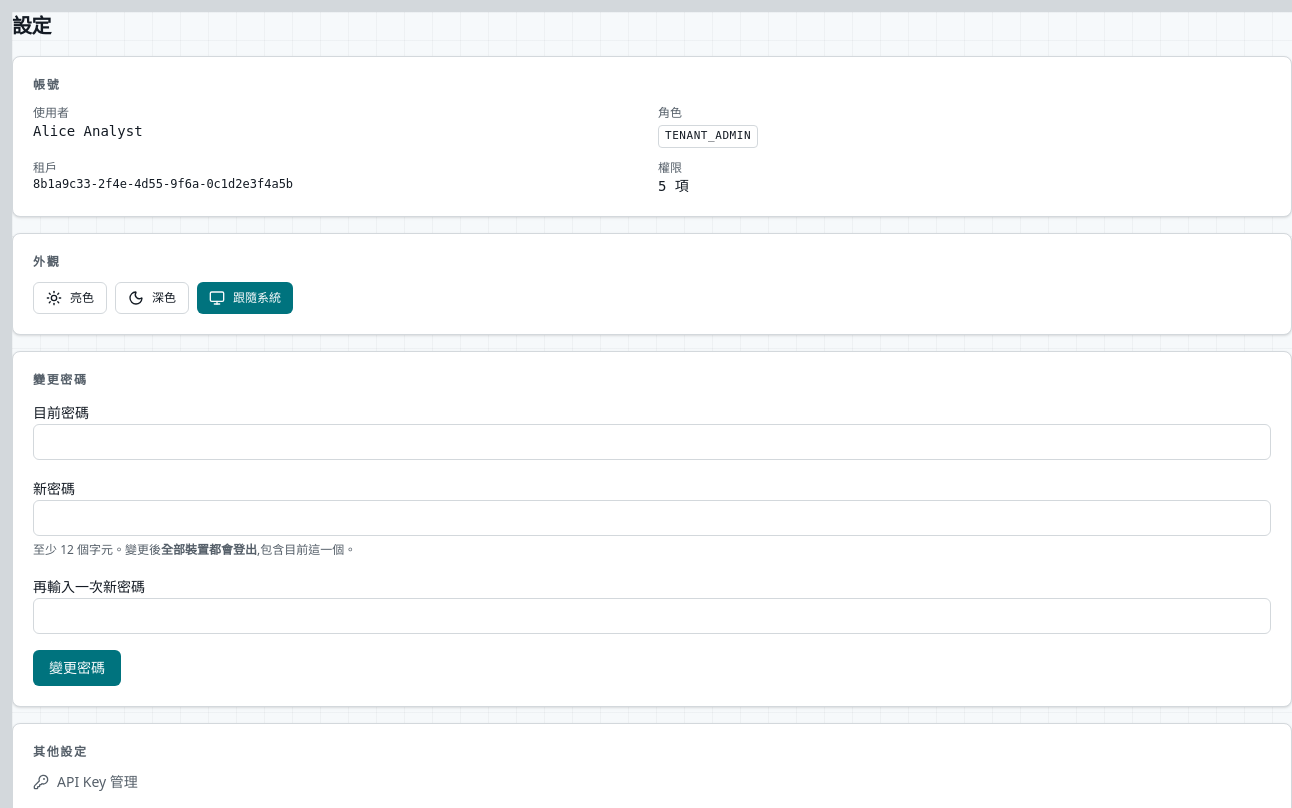
it: SettingsPage › 目前密碼錯誤時顯示錯誤且不動 session
The width and height of the screenshot is (1292, 808).
Type "wrong-password" into the password field labelled "目前密碼" at coordinates (652, 442), box [33,424,1271,460]
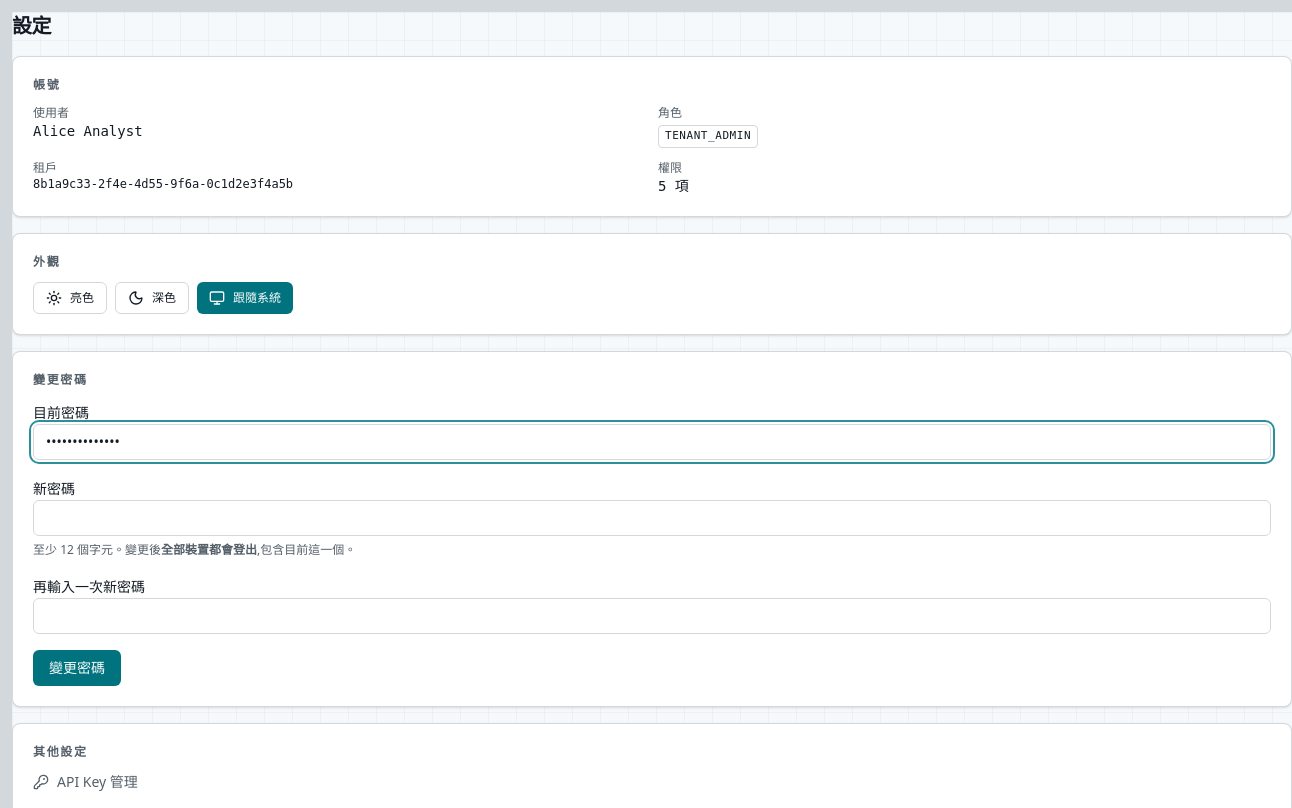
Type "brand-new-password-1234" into the password field labelled "新密碼" at coordinates (652, 518), box [33,500,1271,536]
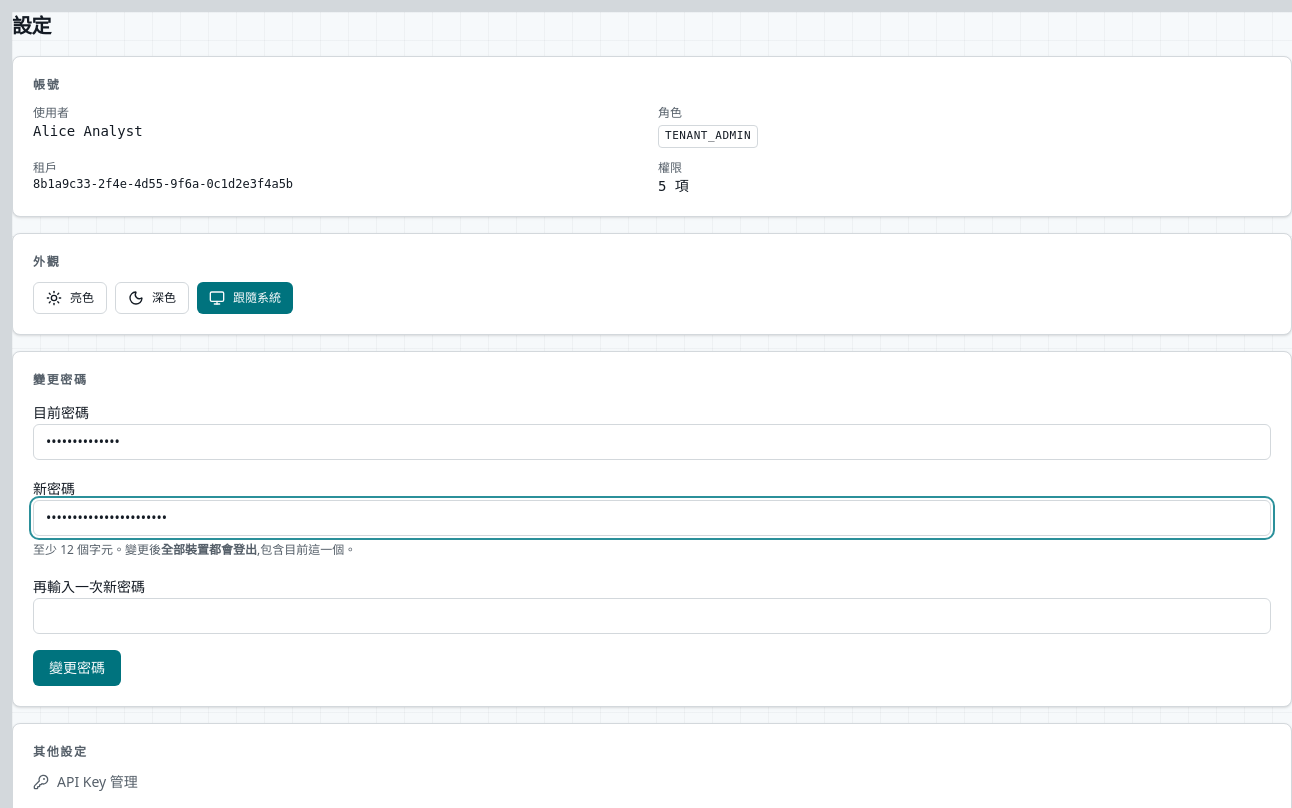
Type "brand-new-password-1234" into the password field labelled "再輸入一次新密碼" at coordinates (652, 616), box [33,598,1271,634]
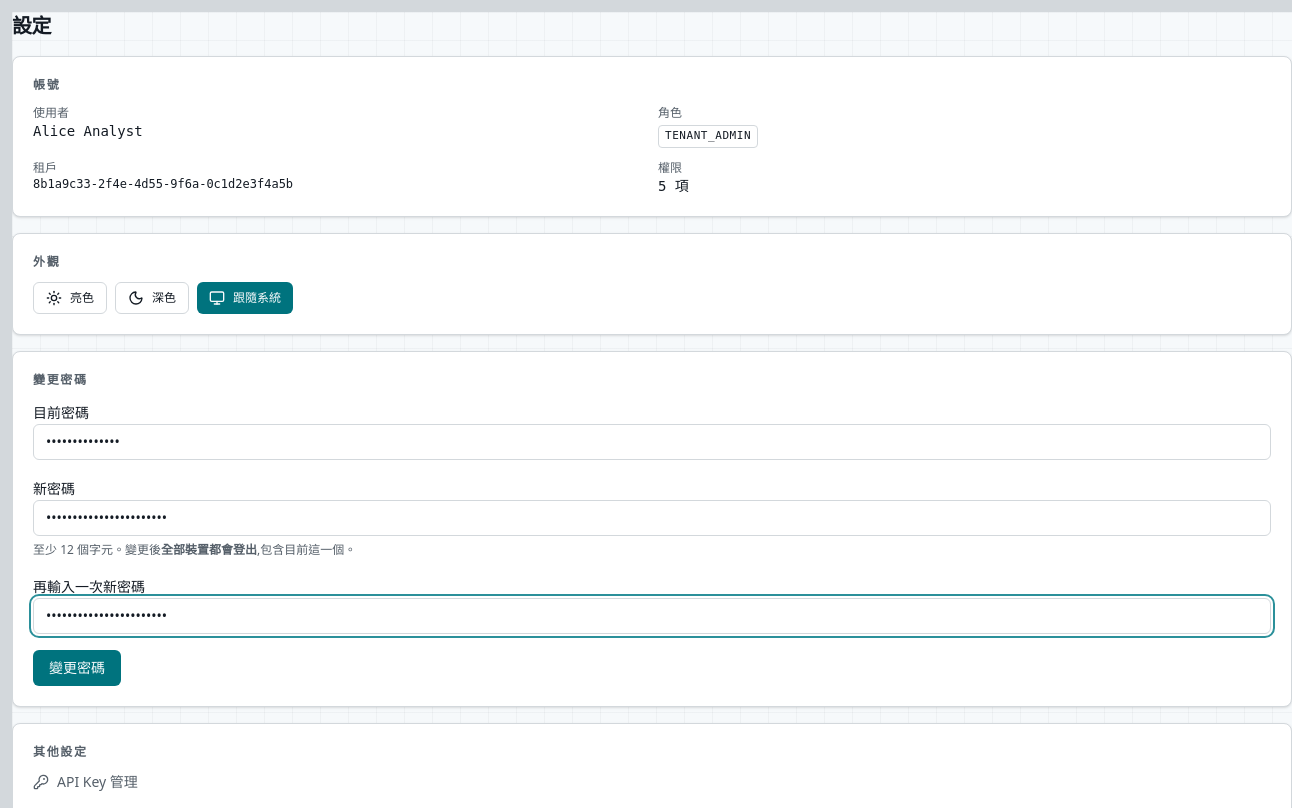
Click the button "變更密碼" at coordinates (77, 668), box [33,650,121,686]
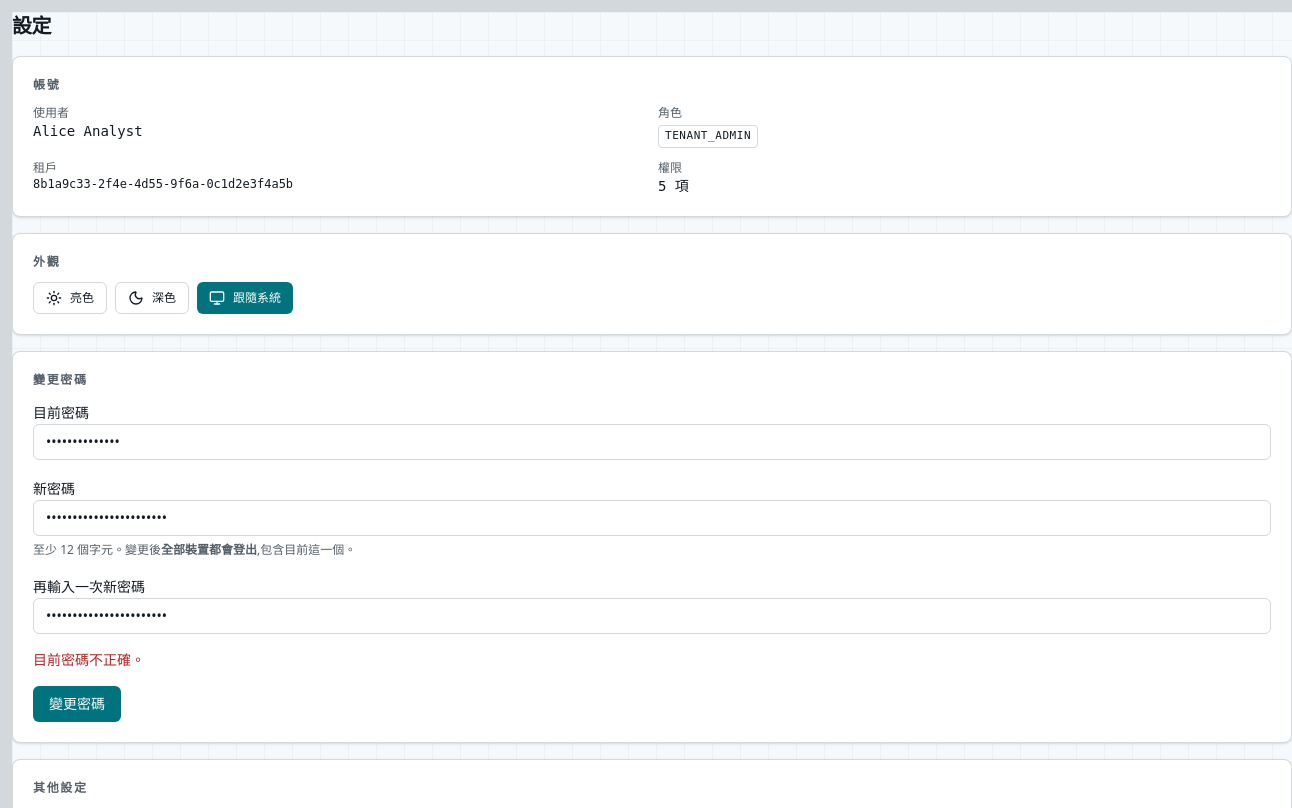
Expected: the message shows "目前密碼不正確", [33,650,145,668]
